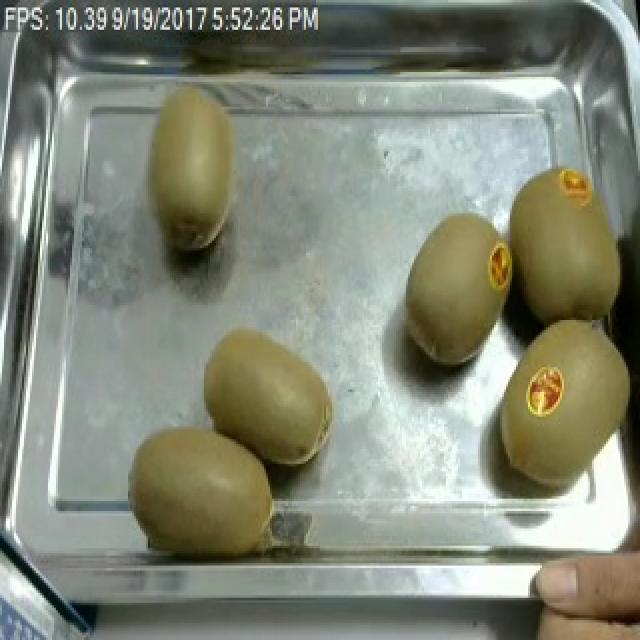Fruit: (486, 307, 640, 493), (120, 417, 286, 558), (196, 317, 344, 474), (136, 74, 252, 263), (510, 156, 634, 332), (396, 201, 514, 379), (512, 570, 640, 640)
